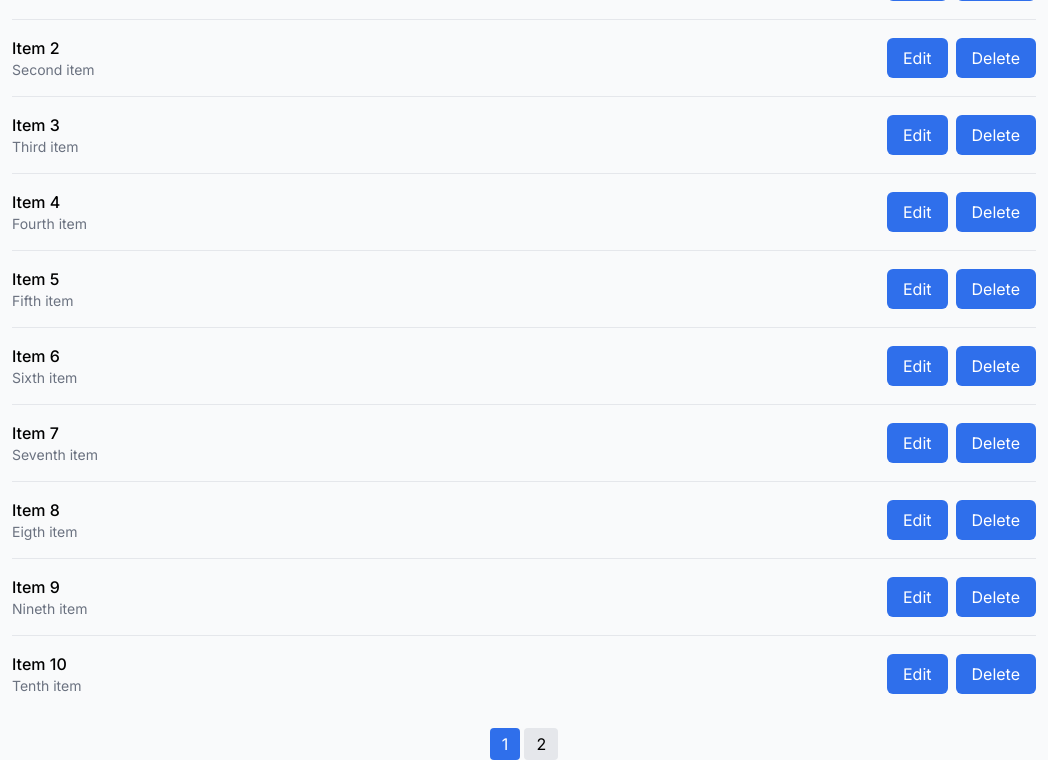
Test: renderList › should paginate correctly
(page scrolled)
Expected: the text "Item 11" is not shown
Note: Click second page
Click the button "2" at (541, 744), box [524,728,558,759]
(page scrolled)
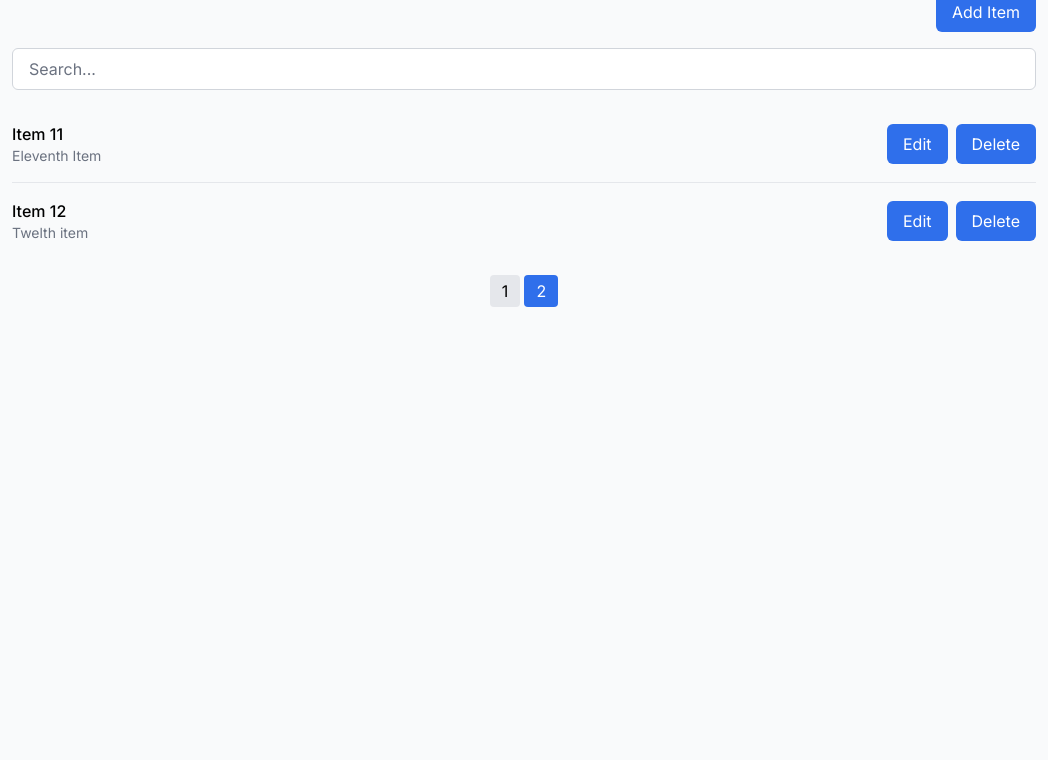
Now the text "Item 11" is shown, box [12,124,63,144]
